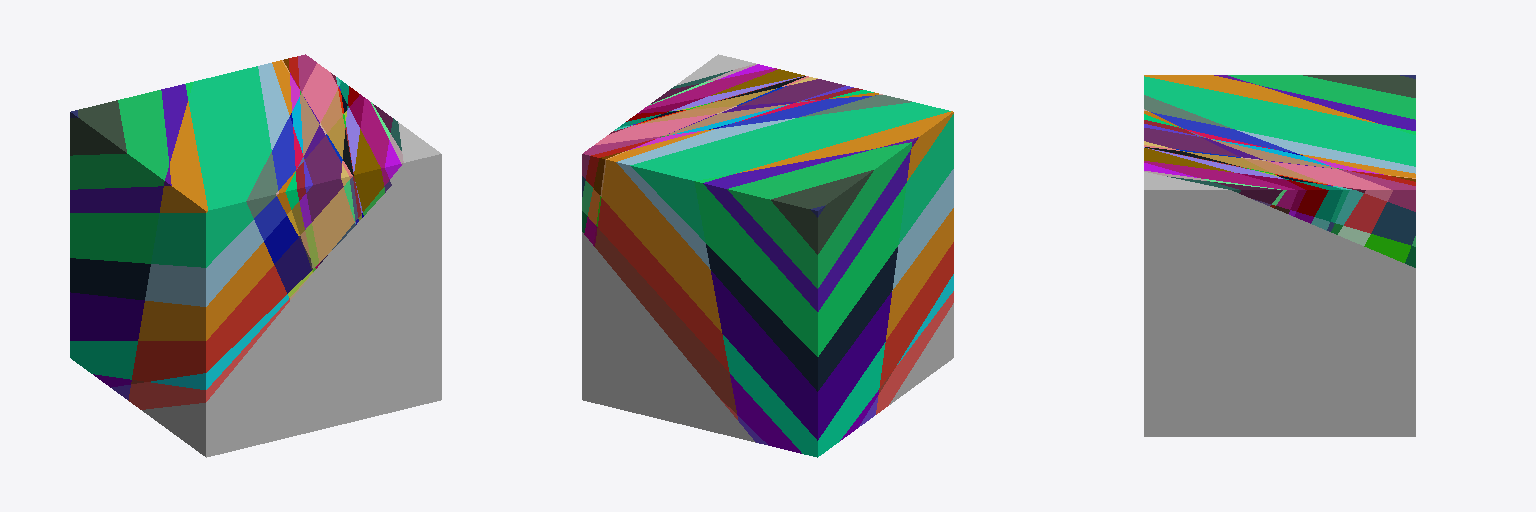
3 renders of one model, left to right at view 1: azimuth 30°, elevation 25°; view 2: azimuth 150°, elevation 25°; view 3: azimuth 270°, elevation 25°, orthographic.
Visible parts, largest first — view 1: Marble220, Marble7, Marble2, Marble9, Marble55, Marble11, Marble264, Marble6, Marble263, Marble252, Marble4, Marble10 (+25 smaller); view 2: Marble220, Marble7, Marble6, Marble11, Marble2, Marble10, Marble55, Marble8, Marble4, Marble9, Marble54, Marble102 (+13 smaller); view 3: Marble264, Marble230, Marble7, Marble236, Marble269, Marble245, Marble266, Marble222, Marble2, Marble271, Marble244, Marble226 (+27 smaller).
Part boxes in pixels (bbox=[...]): Marble220: bbox=[142, 301, 342, 457]; Marble7: bbox=[151, 66, 271, 267]; Marble2: bbox=[70, 90, 168, 189]; Marble9: bbox=[145, 63, 289, 306]; Marble55: bbox=[132, 265, 286, 381]; Marble11: bbox=[138, 60, 291, 340]; Marble264: bbox=[387, 191, 441, 403]; Marble6: bbox=[70, 82, 193, 263]; Marble263: bbox=[365, 198, 423, 406]; Marble252: bbox=[320, 228, 376, 379]; Marble4: bbox=[70, 84, 187, 212]; Marble10: bbox=[70, 292, 144, 340]; Marble220: bbox=[582, 274, 953, 438]; Marble7: bbox=[630, 102, 953, 243]; Marble6: bbox=[694, 174, 906, 356]; Marble11: bbox=[602, 129, 953, 339]; Marble2: bbox=[727, 142, 911, 288]; Marble10: bbox=[711, 271, 891, 440]; Marble55: bbox=[598, 198, 953, 388]; Marble8: bbox=[706, 244, 897, 391]; Marble4: bbox=[703, 148, 910, 311]; Marble9: bbox=[616, 118, 953, 290]; Marble54: bbox=[723, 335, 885, 457]; Marble102: bbox=[595, 228, 893, 413]; Marble264: bbox=[1144, 231, 1277, 436]; Marble230: bbox=[1267, 272, 1393, 436]; Marble7: bbox=[1144, 76, 1415, 166]; Marble236: bbox=[1244, 260, 1350, 436]; Marble269: bbox=[1144, 203, 1224, 341]; Marble245: bbox=[1199, 249, 1315, 436]; Marble266: bbox=[1144, 217, 1251, 368]; Marble222: bbox=[1353, 298, 1415, 436]; Marble2: bbox=[1228, 75, 1415, 119]; Marble271: bbox=[1144, 184, 1194, 282]; Marble244: bbox=[1209, 288, 1303, 436]; Marble226: bbox=[1339, 291, 1408, 436].
Bounding box in the file's own units: 10 × 10 × 10.